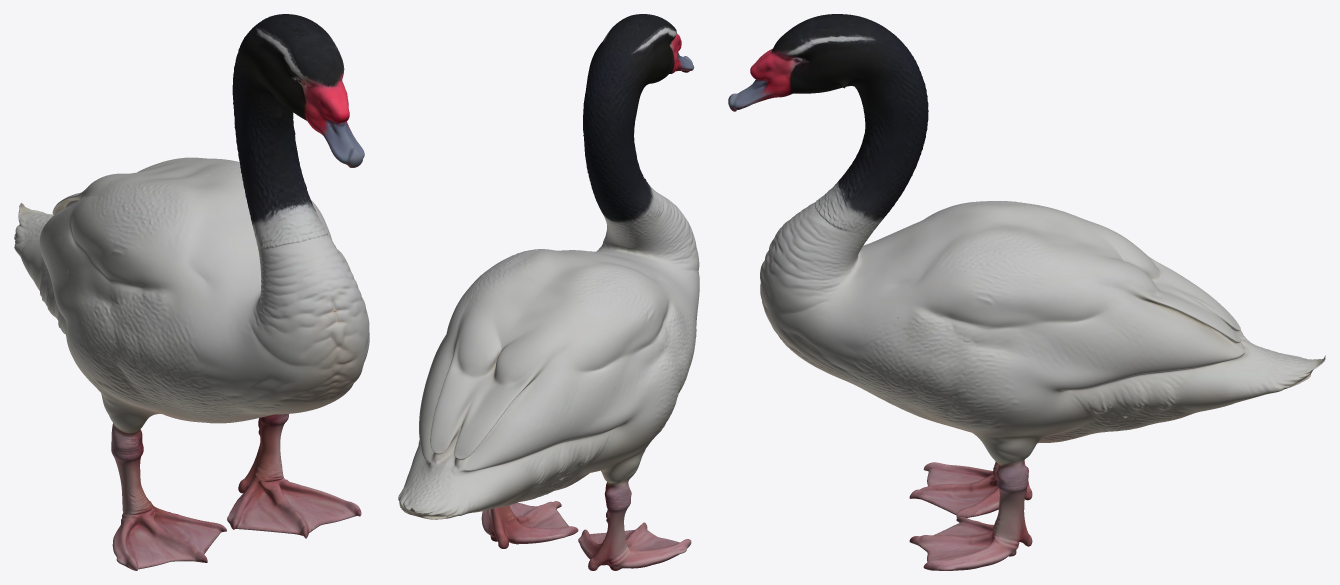
File: cisne.glb
The picture shows the model from 3 angles, left to right: view 1: azimuth 30°, elevation 25°; view 2: azimuth 150°, elevation 25°; view 3: azimuth 270°, elevation 25°; orthographic projection. The views are drawn at different scales.
Parts seen in each view (by area): view 1: material; view 2: material; view 3: material.
Boxes of the visible parts, x1,y1,x2,y2 form: material: (14,14,369,570); material: (398,14,699,570); material: (728,14,1325,570).
Size of the model in its own units: 0.4391 by 0.9454 by 1.01.
1 material, 1 textured.
